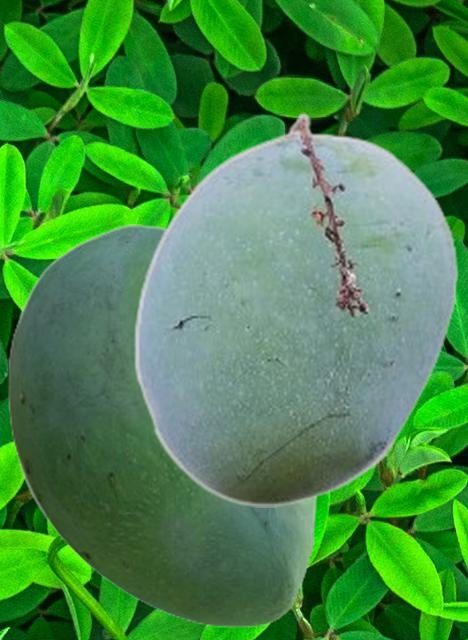green_mango: (133, 112, 458, 506), (7, 224, 320, 627)
